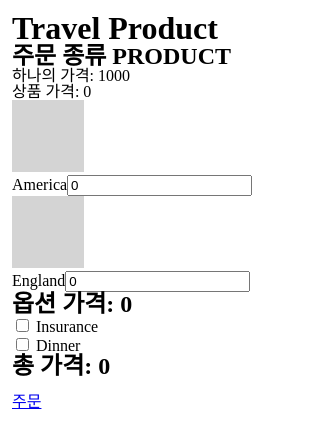
Scenario: total price of goods and options › updating total price when adding one option
The width and height of the screenshot is (332, 426).
Clear the checkbox labelled "Insurance" at (22, 326), box 16,319 -> 29,332
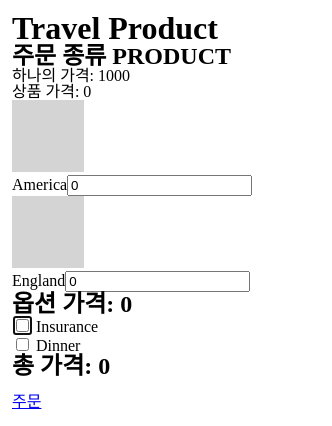
Click the checkbox labelled "Insurance" at (22, 326), box 16,319 -> 29,332
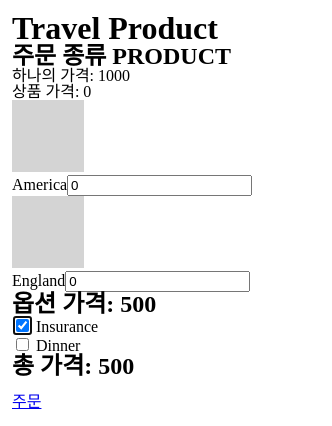
Now the heading "총 가격: 500" is shown, box 12,353 -> 134,379
